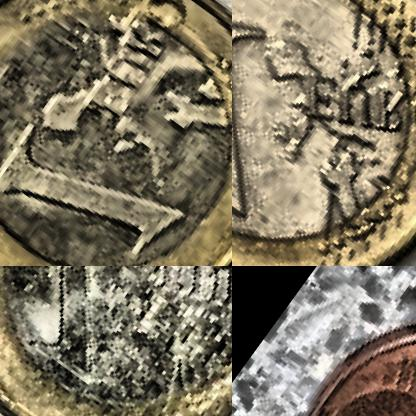coin: (0, 0, 231, 265), (232, 0, 415, 265), (0, 266, 231, 415), (258, 281, 415, 415)
